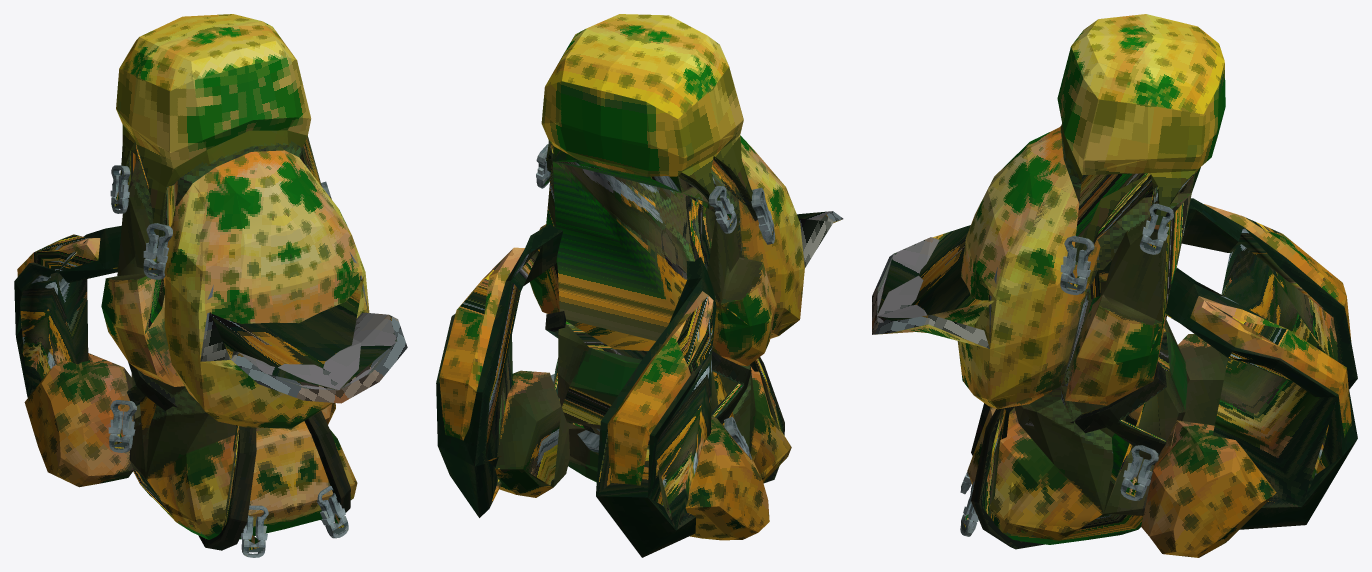
The model's file is item_backpack_large_clover.glb.
3 renders of one model, left to right at view 1: azimuth 30°, elevation 25°; view 2: azimuth 150°, elevation 25°; view 3: azimuth 270°, elevation 25°, orthographic. The views are drawn at different scales.
Visible parts, largest first — view 1: backpackHiker_closed, backpackHiker_open; view 2: backpackHiker_closed, backpackHiker_open; view 3: backpackHiker_closed, backpackHiker_open.
Boxes of the visible parts, bbox=[...] form: backpackHiker_closed: bbox=[14, 14, 369, 557]; backpackHiker_open: bbox=[18, 17, 407, 557]; backpackHiker_closed: bbox=[436, 14, 804, 557]; backpackHiker_open: bbox=[439, 29, 843, 539]; backpackHiker_closed: bbox=[957, 14, 1357, 557]; backpackHiker_open: bbox=[872, 36, 1354, 556].
Bounding box in the file's own units: 0.4636 × 0.7314 × 0.6657.
1 material, 1 textured.
